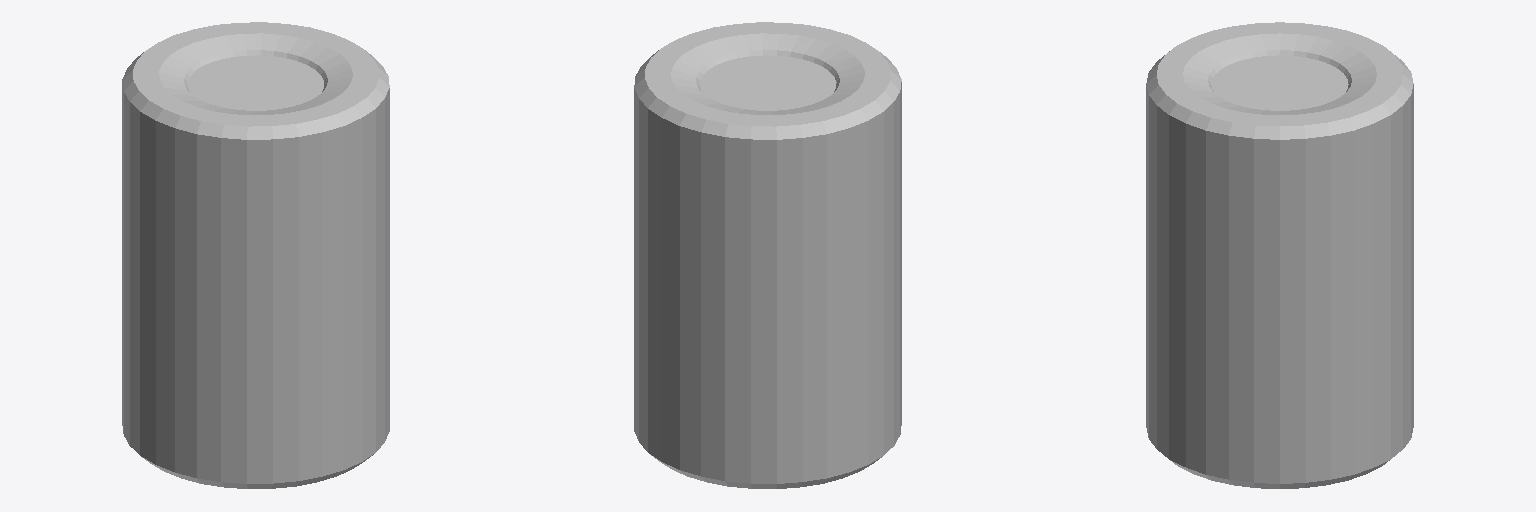
File: Barrel.obj
3 renders of one model, left to right at view 1: azimuth 30°, elevation 25°; view 2: azimuth 150°, elevation 25°; view 3: azimuth 270°, elevation 25°, orthographic.
Visible parts, largest first — view 1: barrel004; view 2: barrel004; view 3: barrel004.
Boxes of the visible parts, x1,y1,x2,y2 form: barrel004: [122, 22, 389, 488]; barrel004: [634, 22, 901, 488]; barrel004: [1146, 22, 1413, 488].
Bounding box in the file's own units: 0.8 × 1.2 × 0.8.